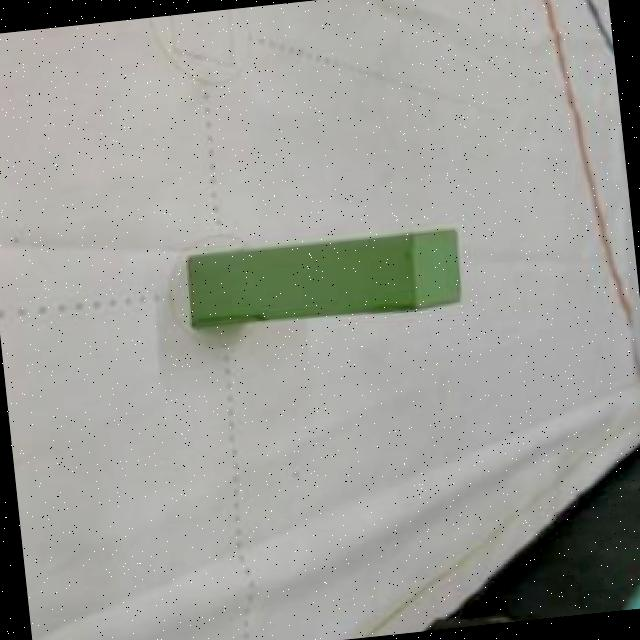greenbox: (181, 220, 468, 335)
